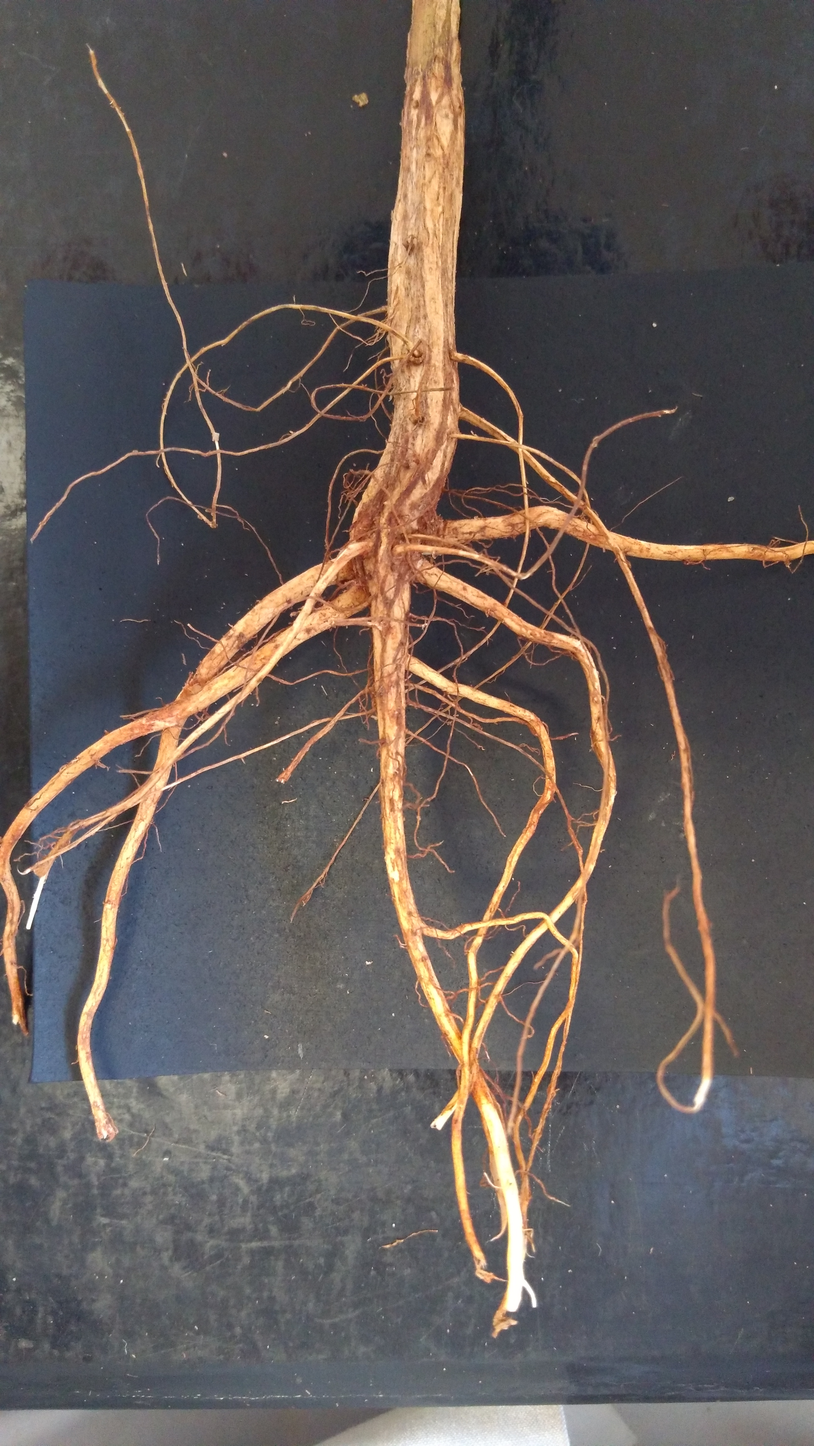nodule: (407, 345, 426, 365), (402, 234, 419, 250), (351, 92, 369, 107), (186, 684, 202, 696), (431, 548, 442, 559), (212, 432, 220, 442)
